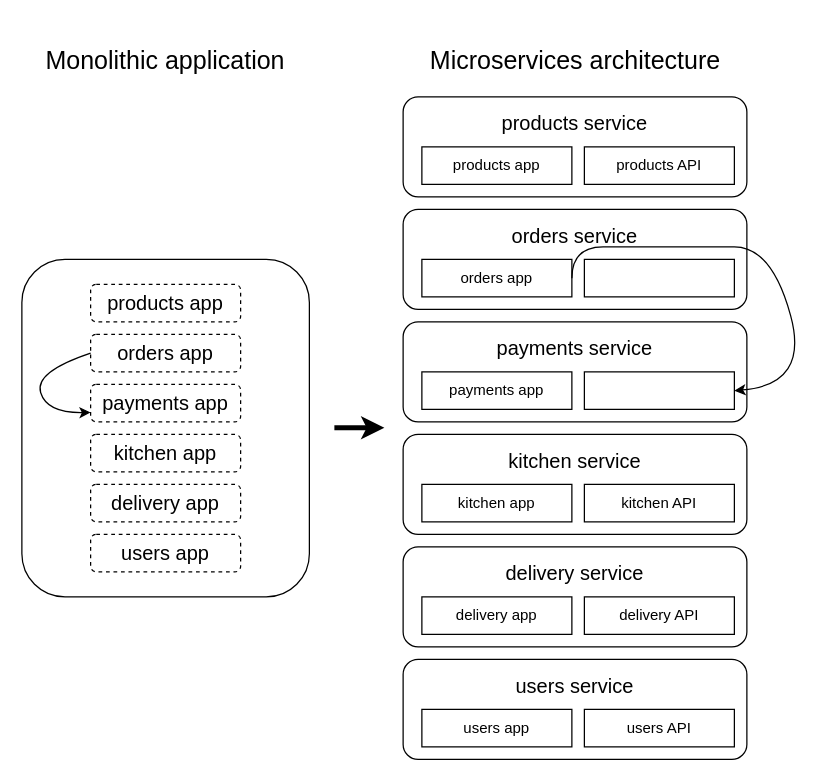
The diagram is 818 pixels wide and 781 high, and some of its shapes have lost their labels. Each missing label, with the centre of its shape:
orders API: [658,277]
payments API: [658,390]
